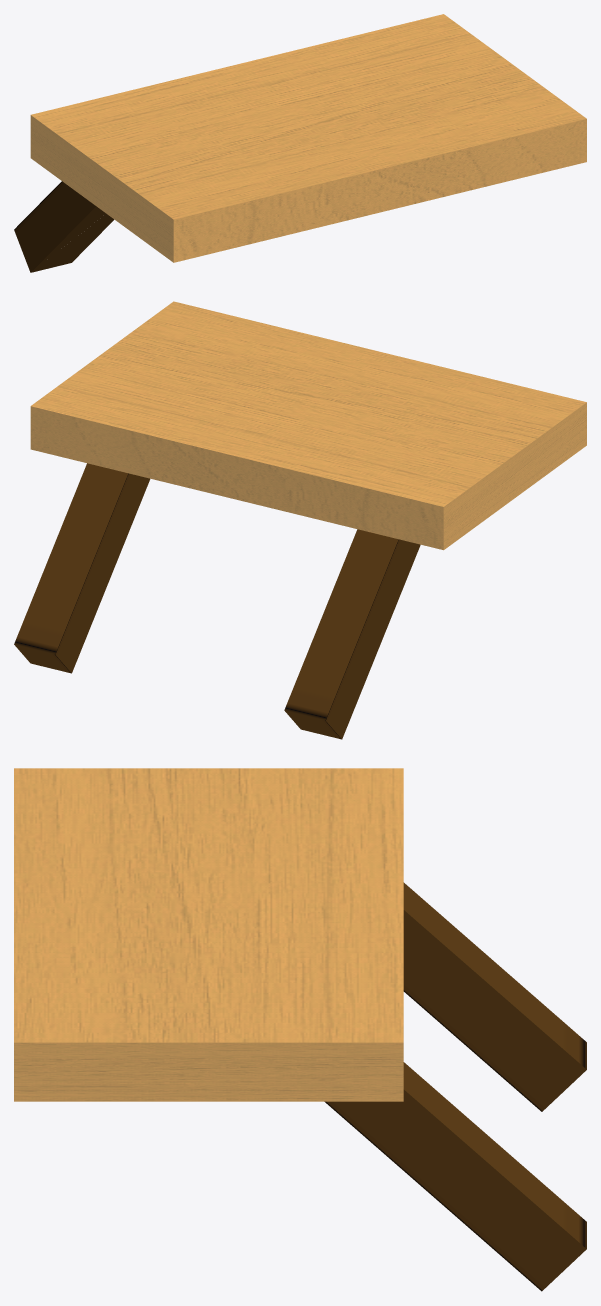
File: shelf.gltf
3 views of the same model, one above another, from view 1: azimuth 30°, elevation 25°; view 2: azimuth 150°, elevation 25°; view 3: azimuth 270°, elevation 25° (orthographic). The views are drawn at different scales.
Visible parts, largest first — view 1: CSGBox3D2; view 2: CSGBox3D2; view 3: CSGBox3D2.
Part boxes in pixels (x1,y1,x2,y2): CSGBox3D2: [14, 14, 586, 272]; CSGBox3D2: [14, 301, 586, 739]; CSGBox3D2: [14, 768, 586, 1291].
Size of the model in its own units: 2 by 0.9606 by 1.76.
Materials: 2 (2 with a texture image).
